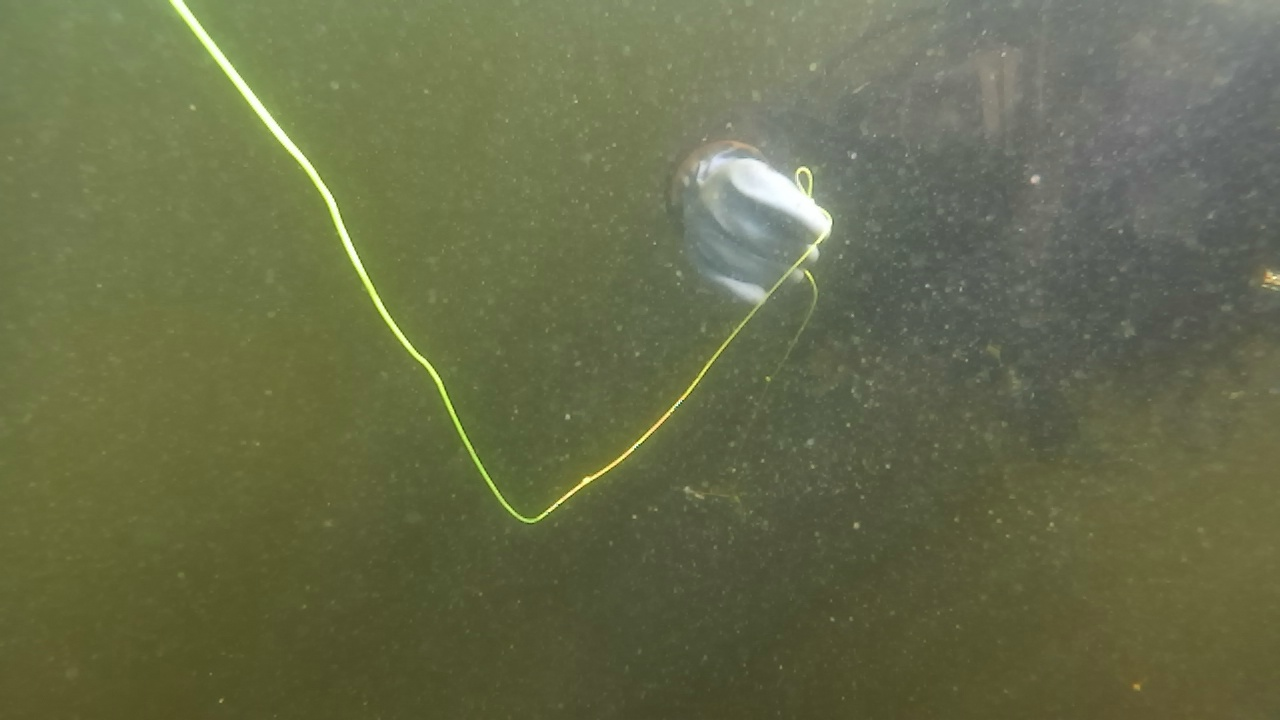Diver: (640, 8, 1278, 480)
Hand: (662, 126, 852, 290)
